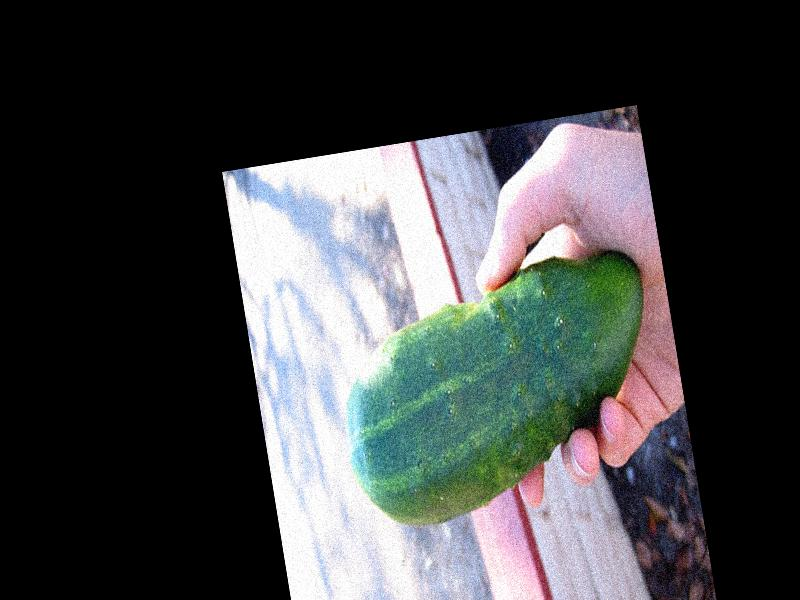Cucumber: (325, 246, 674, 538)
